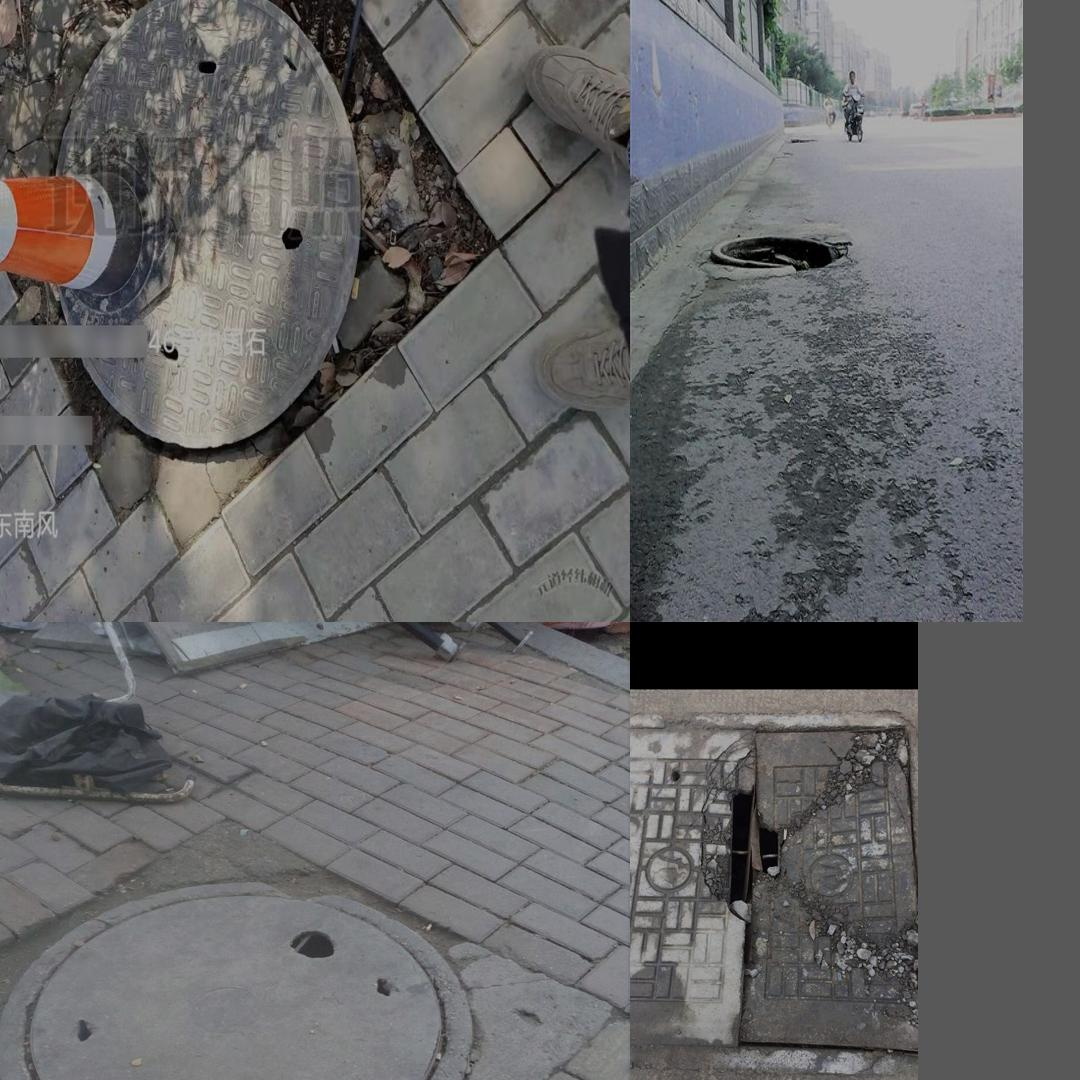broke: (44, 0, 362, 449), (633, 710, 917, 1080), (0, 881, 476, 1080), (696, 213, 875, 300)
